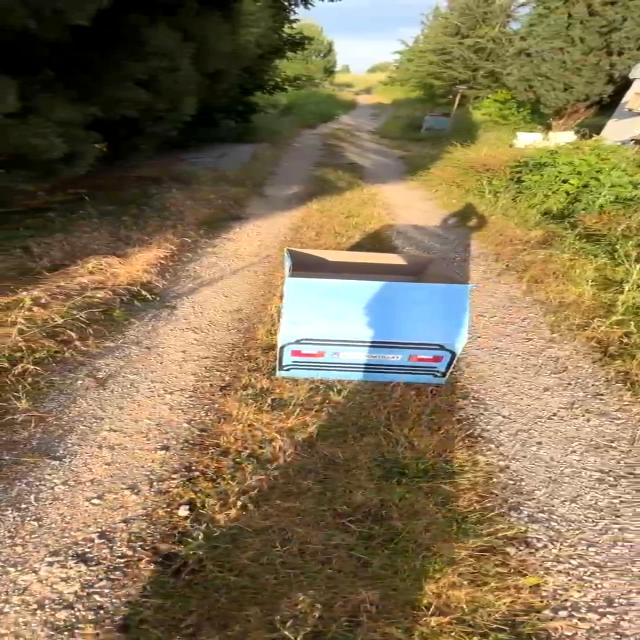blue_car: (231, 235, 508, 414)
